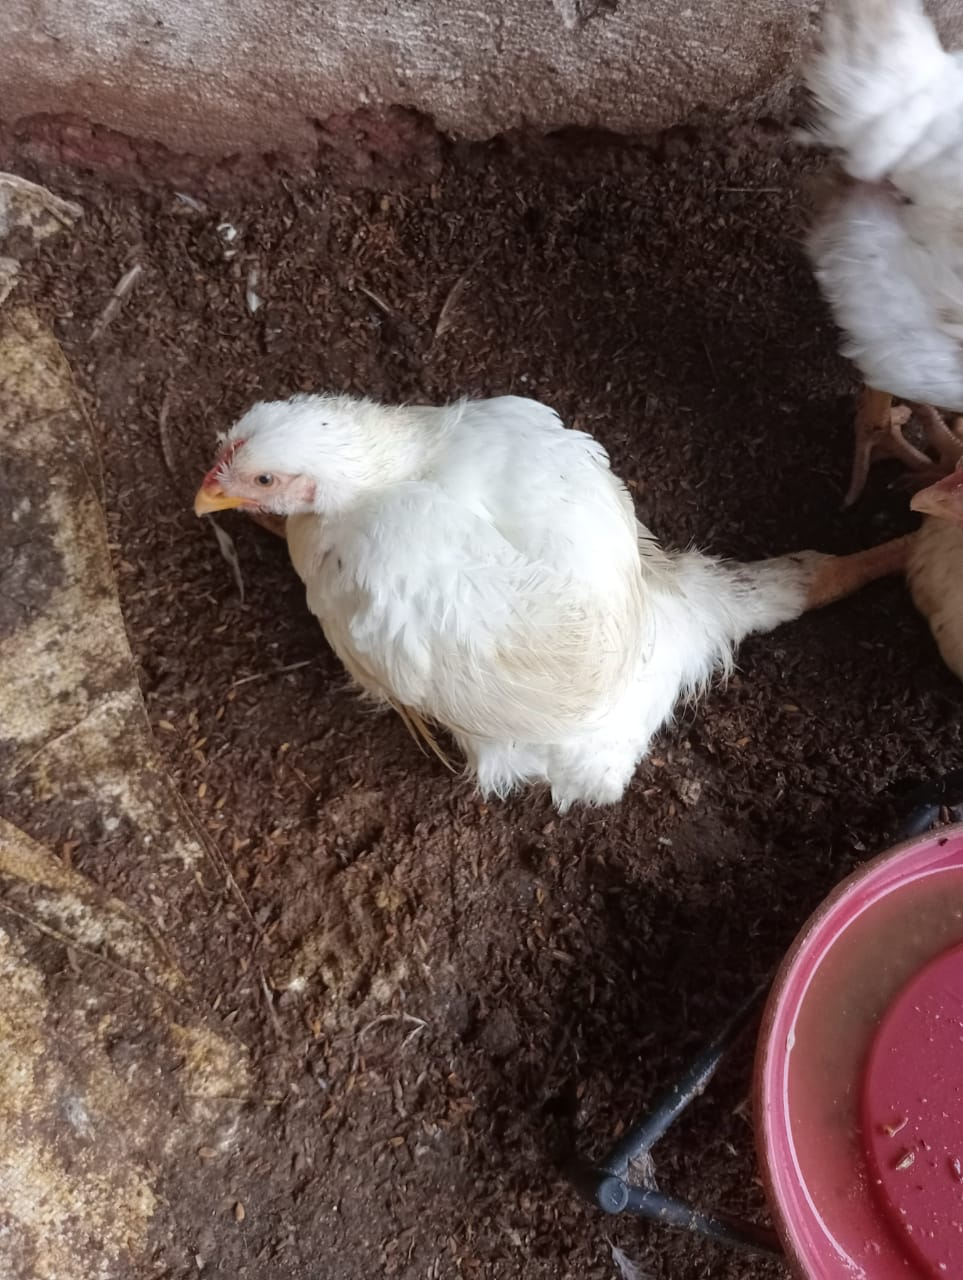Unhealthy: (181, 346, 845, 810)
